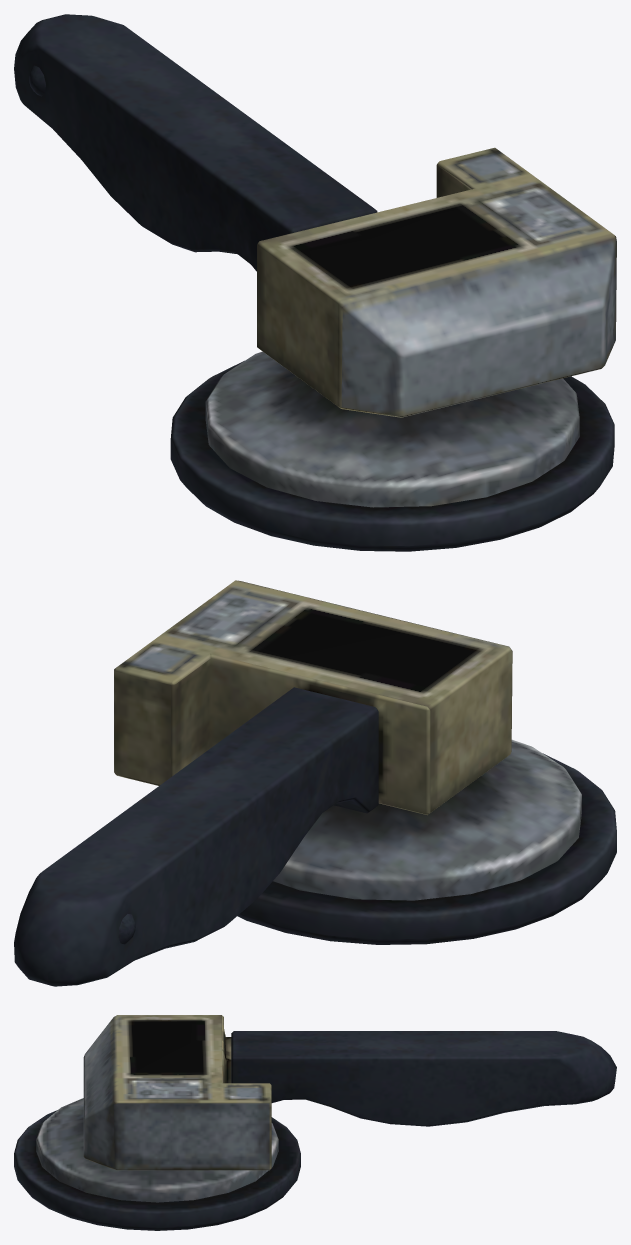
File: stetoscope_chestpiece.DAE
The picture shows the model from 3 angles, top to bottom: view 1: azimuth 30°, elevation 25°; view 2: azimuth 150°, elevation 25°; view 3: azimuth 270°, elevation 25°; orthographic projection. The views are drawn at different scales.
Parts seen in each view (by area): view 1: stetoscope_chestpiece; view 2: stetoscope_chestpiece; view 3: stetoscope_chestpiece.
Boxes of the visible parts, box(x1,y1,x2,y2) form: stetoscope_chestpiece: box(14, 14, 616, 551); stetoscope_chestpiece: box(14, 580, 616, 986); stetoscope_chestpiece: box(14, 1015, 616, 1230).
Bounding box in the file's own units: 0.1427 × 0.0728 × 0.2999.
